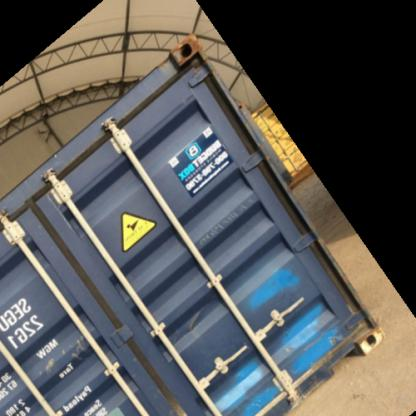Damage: (306, 317, 373, 368)
